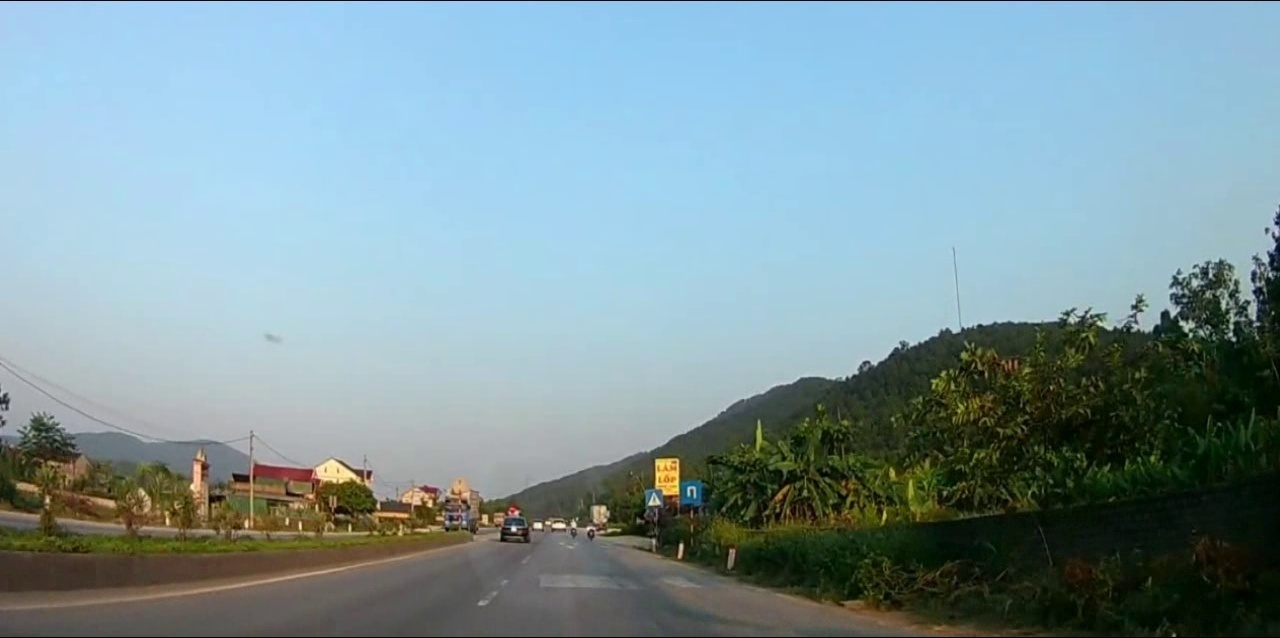Bien khac: (680, 479, 702, 506)
Nguoi di bo: (644, 487, 664, 507)
